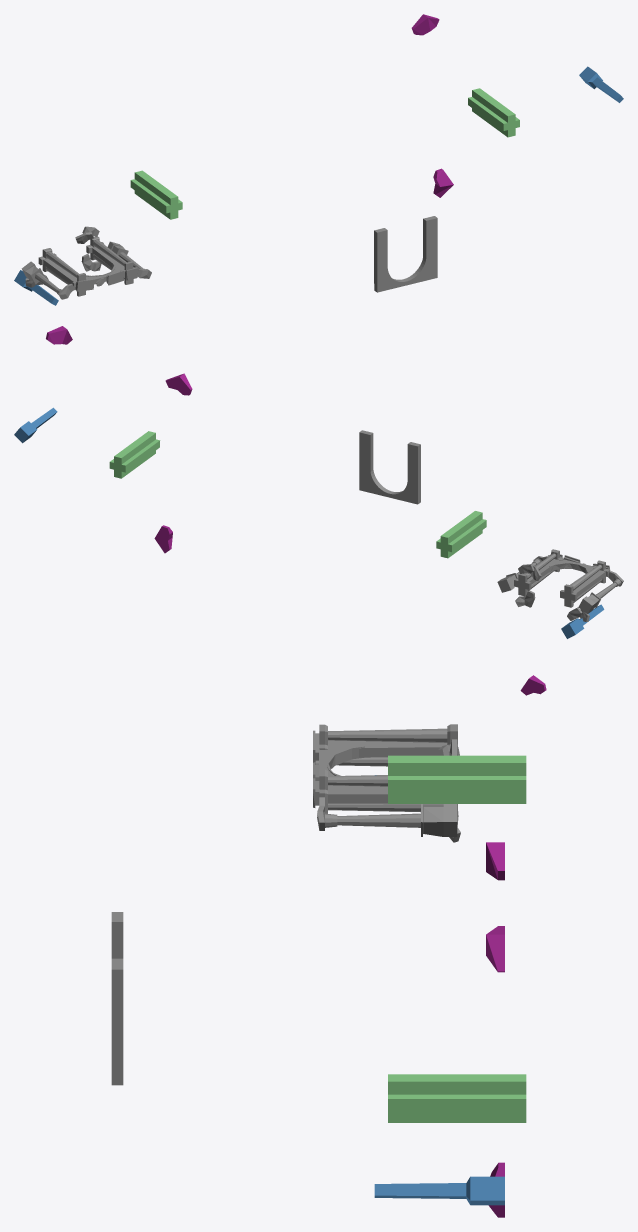
Rendered from ruins_RuinArch_01.glb.
The picture shows the model from 3 angles, top to bottom: view 1: azimuth 30°, elevation 25°; view 2: azimuth 150°, elevation 25°; view 3: azimuth 270°, elevation 25°; orthographic projection. The views are drawn at different scales.
Parts seen in each view (by area): view 1: geometry_0; view 2: geometry_0; view 3: geometry_0.
Boxes of the visible parts, x1,y1,x2,y2 form: geometry_0: (14,14,623,344); geometry_0: (14,373,623,695); geometry_0: (111,724,526,1217).
Bounding box in the file's own units: 12.98 × 5.13 × 4.12.
